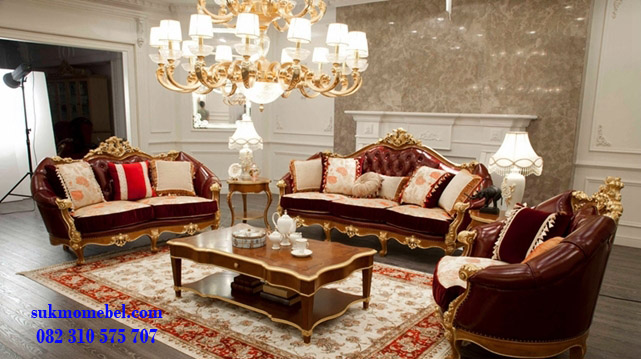Carving Chair: (444, 183, 609, 359), (284, 130, 473, 255), (31, 130, 229, 248)
Carving Table: (172, 229, 375, 326)
